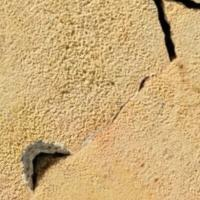crack: (13, 2, 199, 189)
